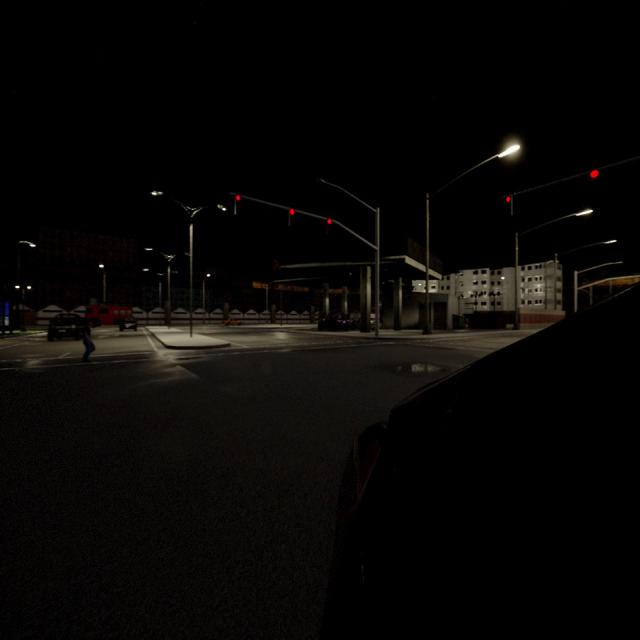Pedestrian: (82, 326, 95, 361)
Vehicle: (332, 291, 640, 640), (48, 314, 83, 342), (85, 304, 133, 324), (319, 313, 347, 331), (350, 318, 380, 331), (120, 318, 136, 331), (222, 317, 241, 325)
traffic_light: (504, 196, 512, 214), (590, 170, 598, 187), (234, 194, 240, 213), (288, 208, 294, 227), (327, 218, 332, 232)
